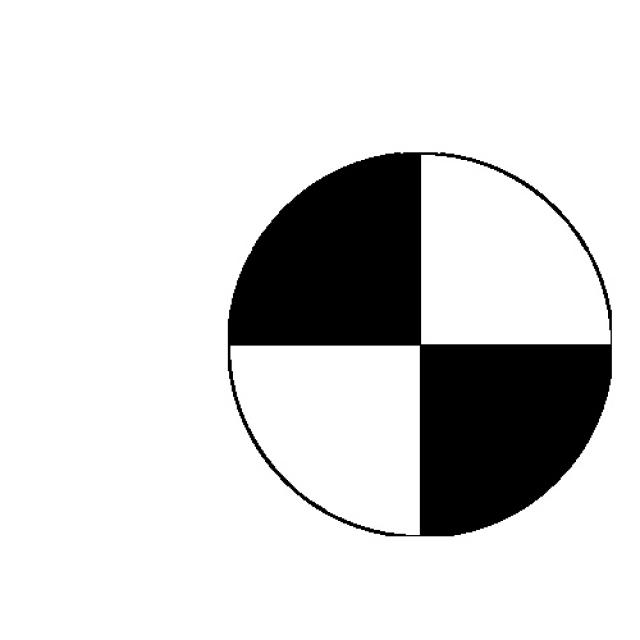Marcadores: (230, 151, 610, 538)
